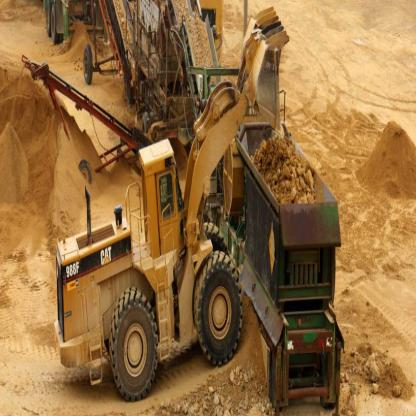bull_dozer/loader/grader: (49, 2, 292, 401)
